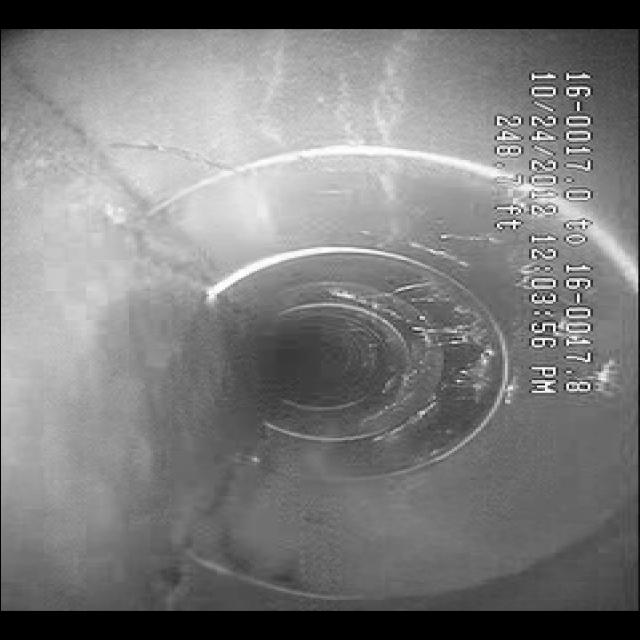Crack: (109, 120, 292, 194)
